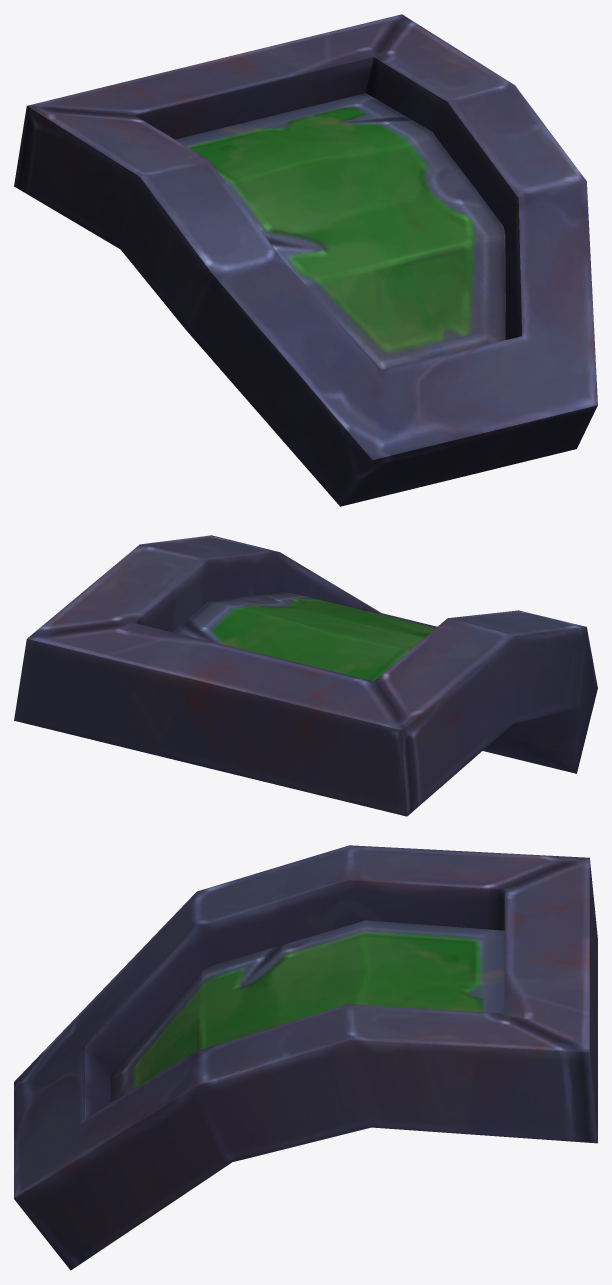
The model's file is armor_green_01.fbx.
3 views of the same model, one above another, from view 1: azimuth 30°, elevation 25°; view 2: azimuth 150°, elevation 25°; view 3: azimuth 270°, elevation 25° (orthographic). The views are drawn at different scales.
Visible parts, largest first — view 1: armor_green_01; view 2: armor_green_01; view 3: armor_green_01.
Boxes of the visible parts, left/top/right/bottom form: armor_green_01: left=14, top=14, right=597, bottom=506; armor_green_01: left=14, top=535, right=597, bottom=816; armor_green_01: left=14, top=845, right=597, bottom=1270.
Bounding box in the file's own units: 0.5827 × 0.3559 × 0.7051.
